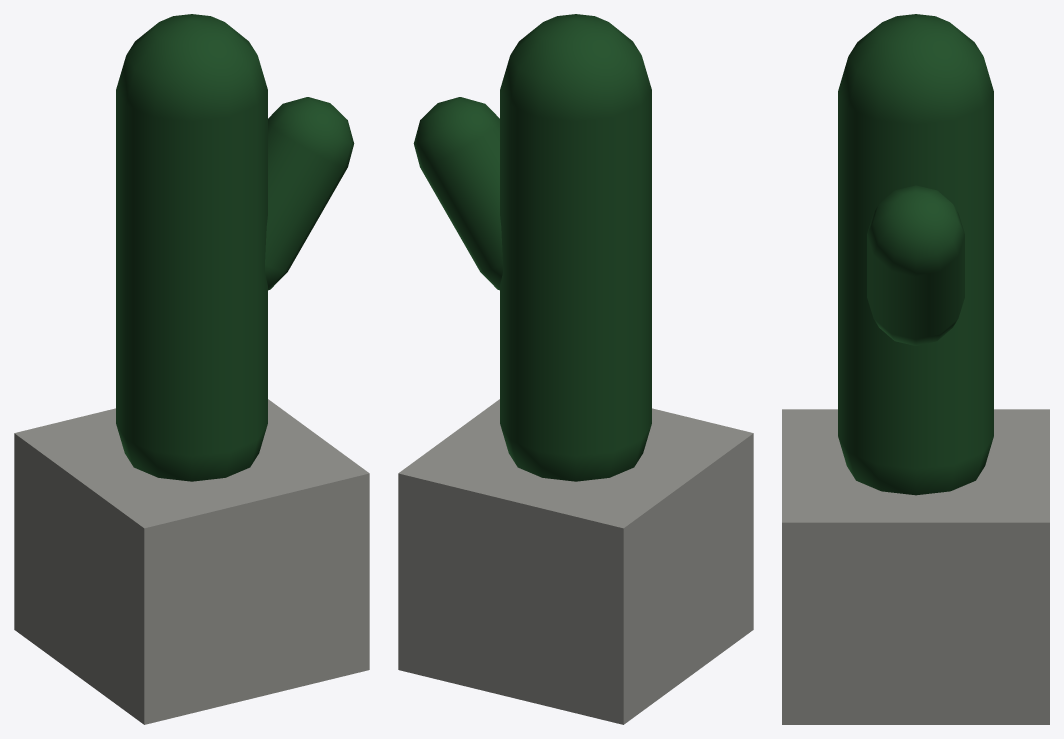
Rendered from plant_cactus.glb.
3 renders of one model, left to right at view 1: azimuth 30°, elevation 25°; view 2: azimuth 150°, elevation 25°; view 3: azimuth 270°, elevation 25°, orthographic. The views are drawn at different scales.
Parts seen in each view (by area): view 1: Part0, Part1, Part2; view 2: Part0, Part1, Part2; view 3: Part0, Part1, Part2.
Part boxes in pixels (left/top/right/bottom): Part0: left=14, top=399, right=369, bottom=724; Part1: left=116, top=14, right=267, bottom=481; Part2: left=265, top=97, right=354, bottom=290; Part0: left=398, top=399, right=753, bottom=724; Part1: left=500, top=14, right=651, bottom=481; Part2: left=413, top=97, right=502, bottom=290; Part0: left=782, top=409, right=1049, bottom=724; Part1: left=838, top=14, right=993, bottom=495; Part2: left=867, top=185, right=964, bottom=345.
Bounding box in the file's own units: 0.143 × 0.32 × 0.12.
